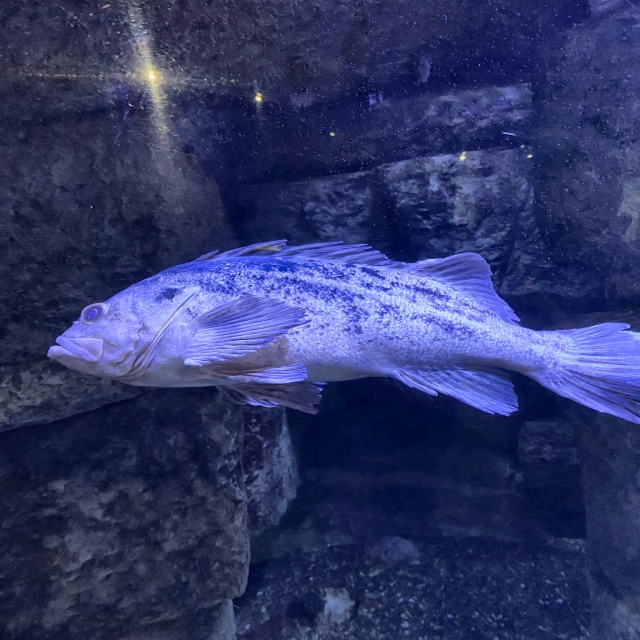fish: (46, 227, 634, 451)
